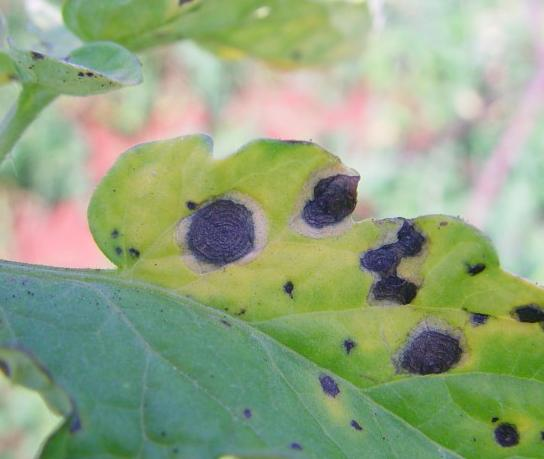Tomato Early blight leaf: (0, 132, 544, 459), (67, 0, 222, 51)
